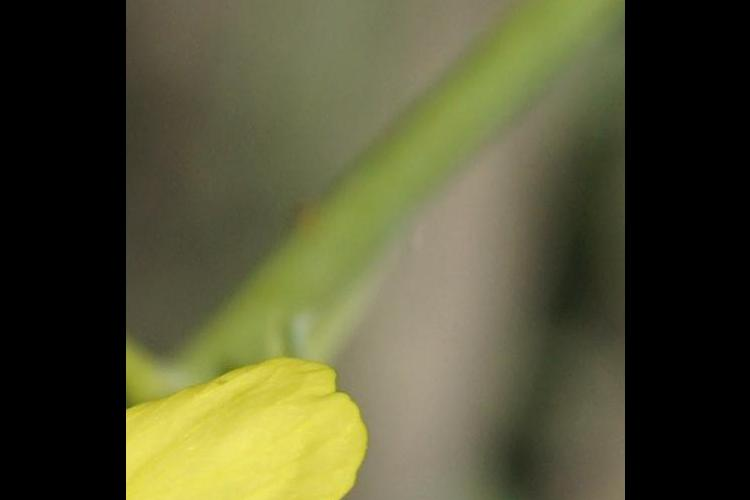yellow: (133, 345, 391, 500)
